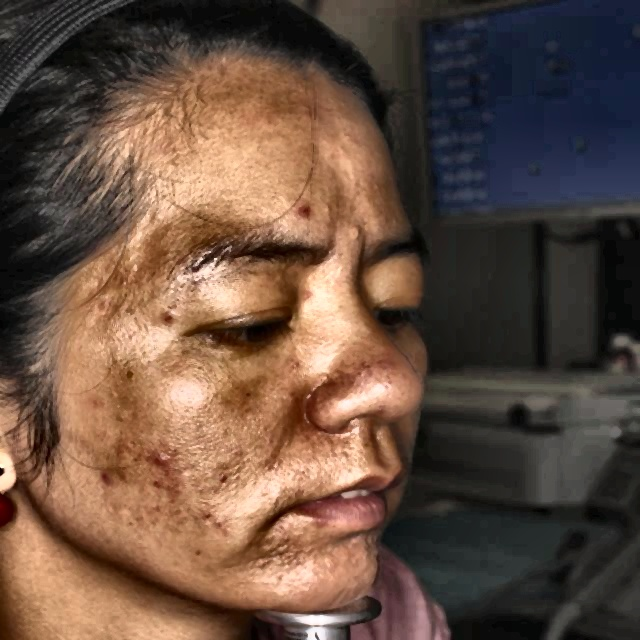comedone: (147, 445, 172, 476), (150, 306, 182, 329), (298, 202, 327, 220)
